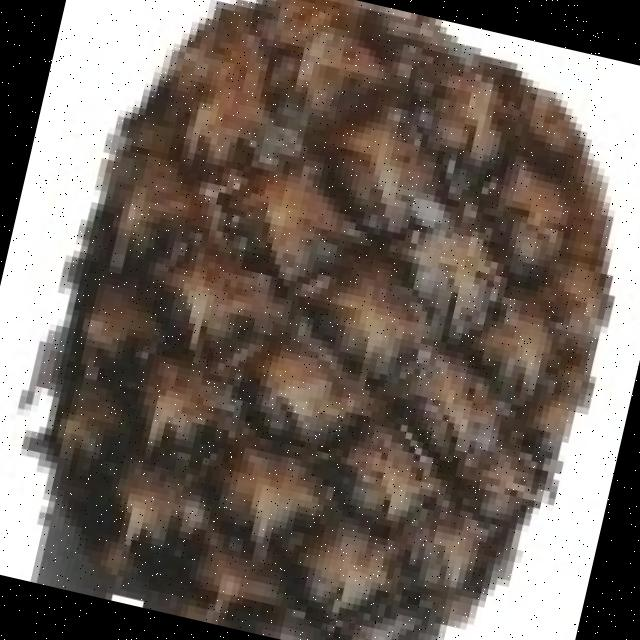pineapple: (26, 0, 611, 640)
